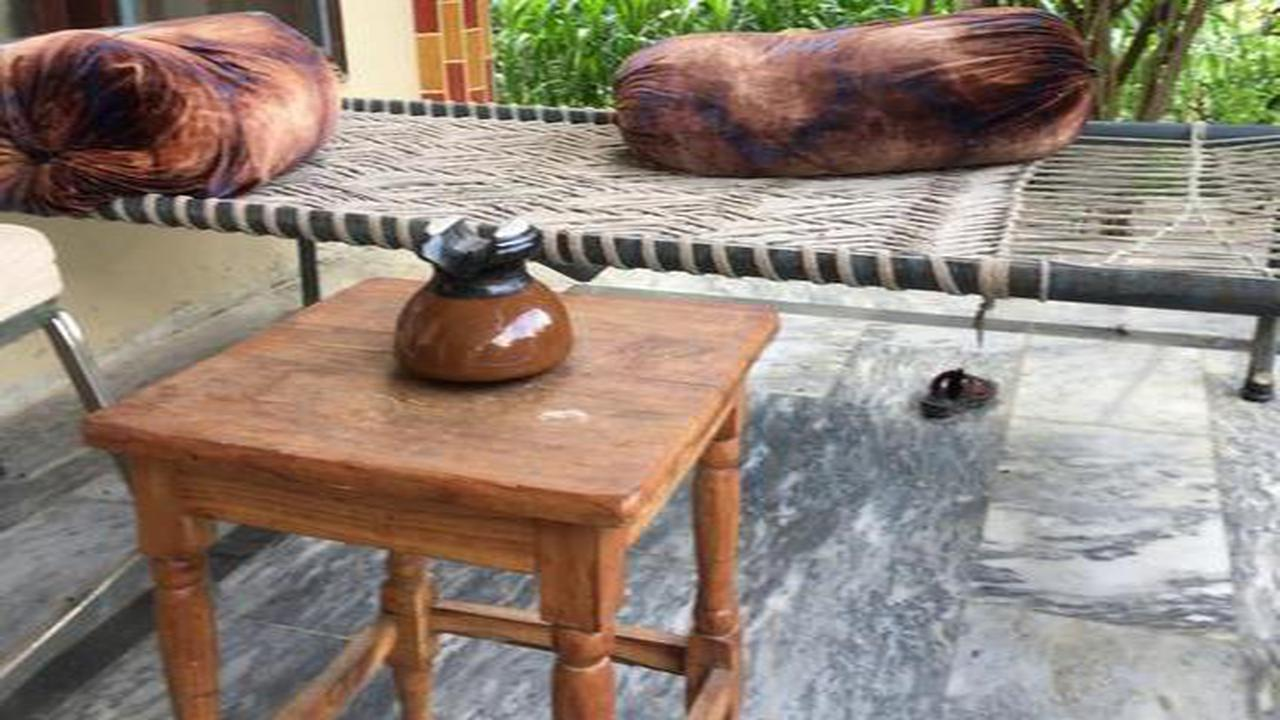insulator_pin: (370, 205, 601, 406)
